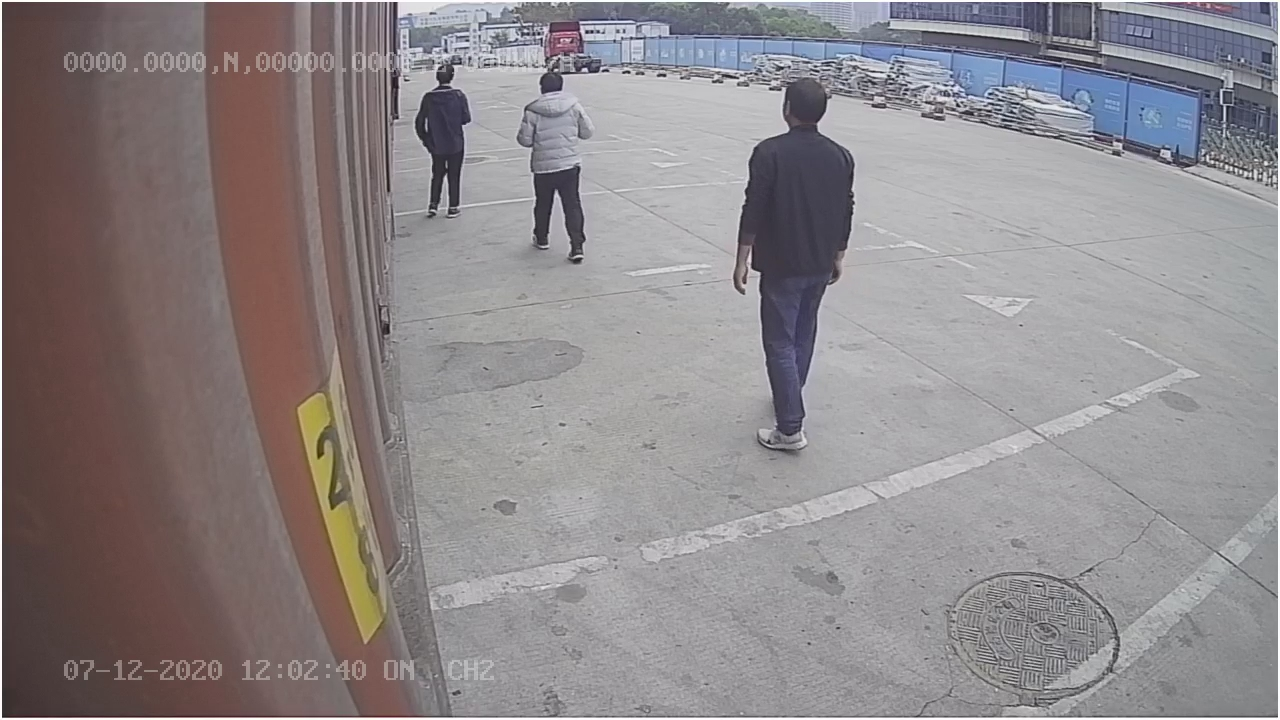person: (727, 77, 856, 454)
